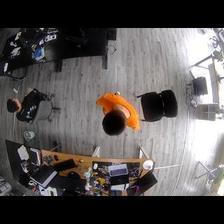normal: (92, 85, 141, 137), (1, 85, 58, 127)
